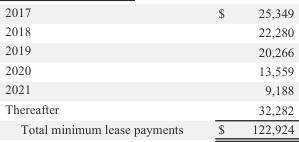table: (4, 4, 293, 135)
table column: (4, 4, 199, 135), (199, 4, 293, 135)
table row: (4, 40, 293, 60), (4, 79, 293, 99), (4, 99, 293, 119), (4, 21, 293, 40), (4, 60, 293, 79), (4, 4, 293, 21), (4, 119, 293, 135)
